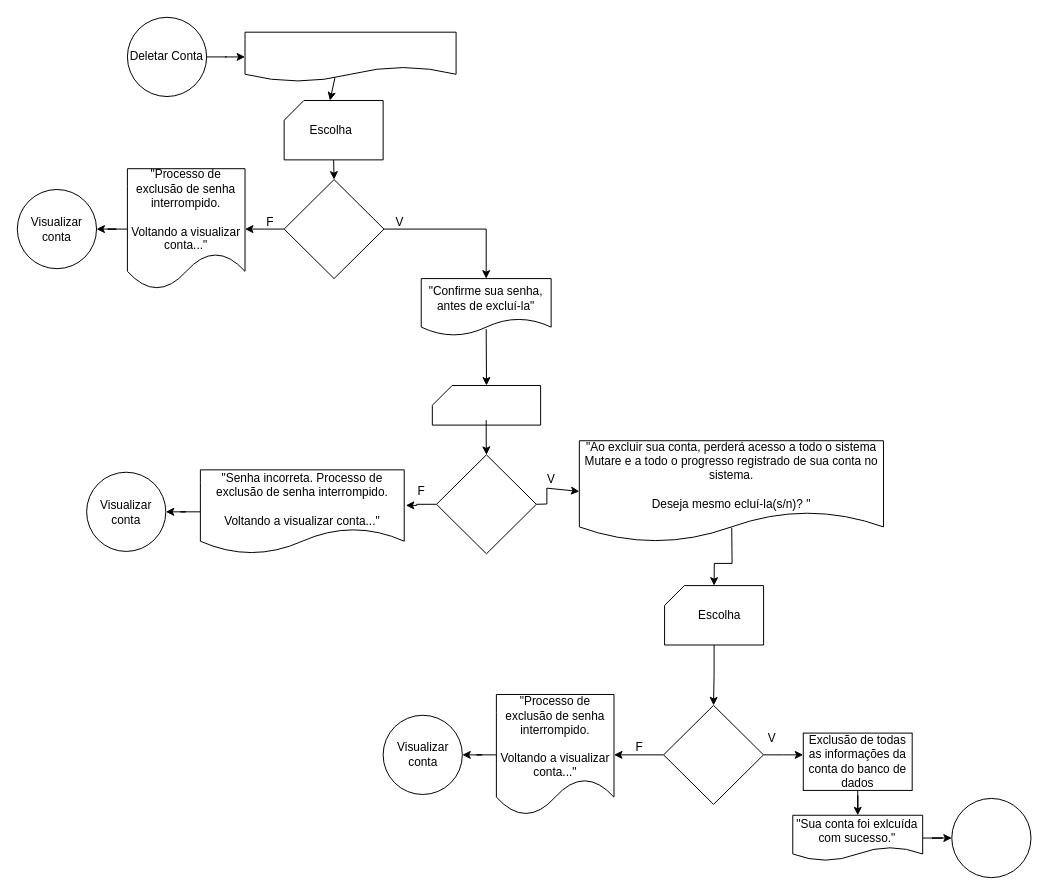
This 1048x895 diagram has some shape labels left out. Here are the shapes that lost their labels. From the top down, the centre of each, then its label:
(350,56): "Você tem certeza que quer excluir sua conta Mutare(s/n)?
(333,229): Escolha igual a 's'?
(486,405): Confirmar Senha
(486,504): Confirmar Senha é igual a Senha salva no banco de dados para essa conta?
(713,754): Escolha igual a "s"?
(991,837): Cadastro
